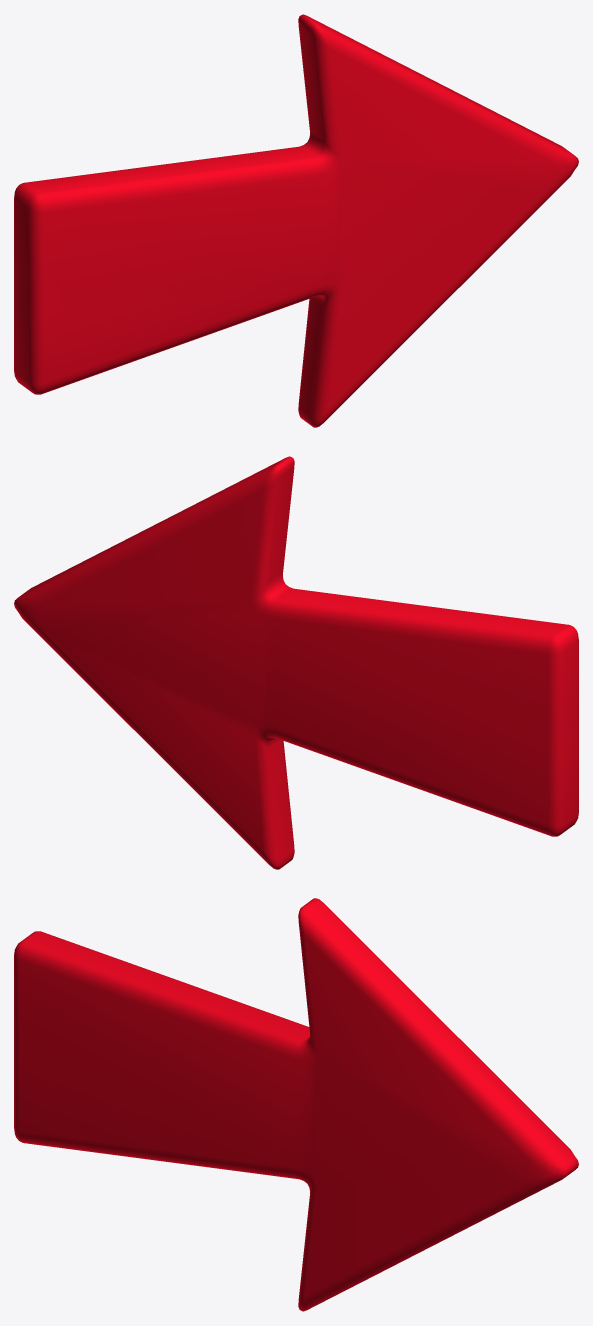
Rendered from fleche.glb.
The picture shows the model from 3 angles, top to bottom: view 1: azimuth 30°, elevation 25°; view 2: azimuth 150°, elevation 25°; view 3: azimuth 330°, elevation 25°; orthographic projection.
Parts seen in each view (by area): view 1: fleche; view 2: fleche; view 3: fleche.
Part boxes in pixels (x1,y1,x2,y2): fleche: (14,14,578,427); fleche: (14,456,578,869); fleche: (14,898,578,1311).
Size of the model in its own units: 3.01 by 2.11 by 0.2343.
